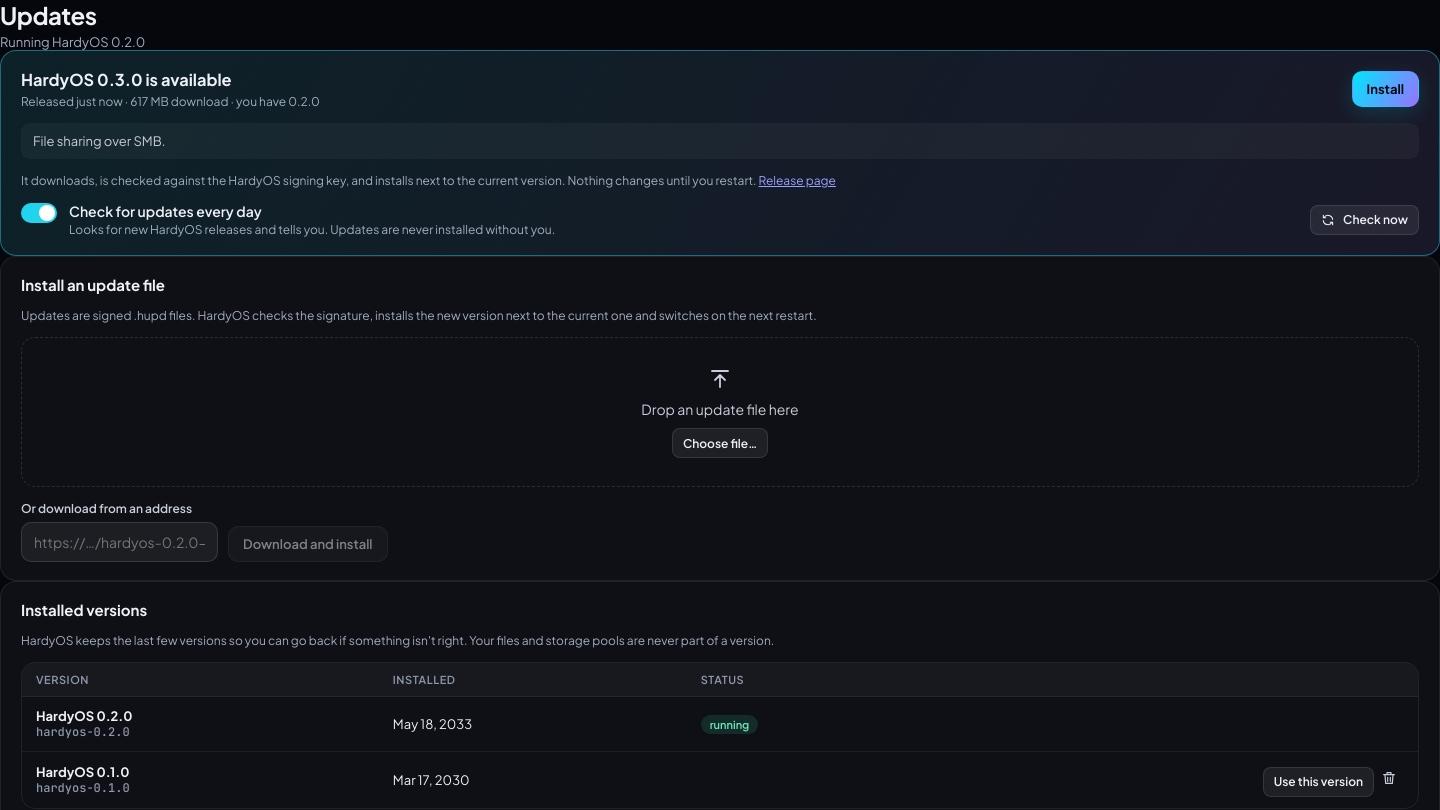
Updates › offers a version found by the automatic check and installs it
This screenshot has width=1440, height=810.
Expected: the heading "HardyOS 0.3.0 is available" is shown, 21,69 -> 232,90
Expected: the text "File sharing over SMB." is shown, 21,123 -> 1419,159
Click the button "Install" at (1385, 89), box 1352,71 -> 1419,107
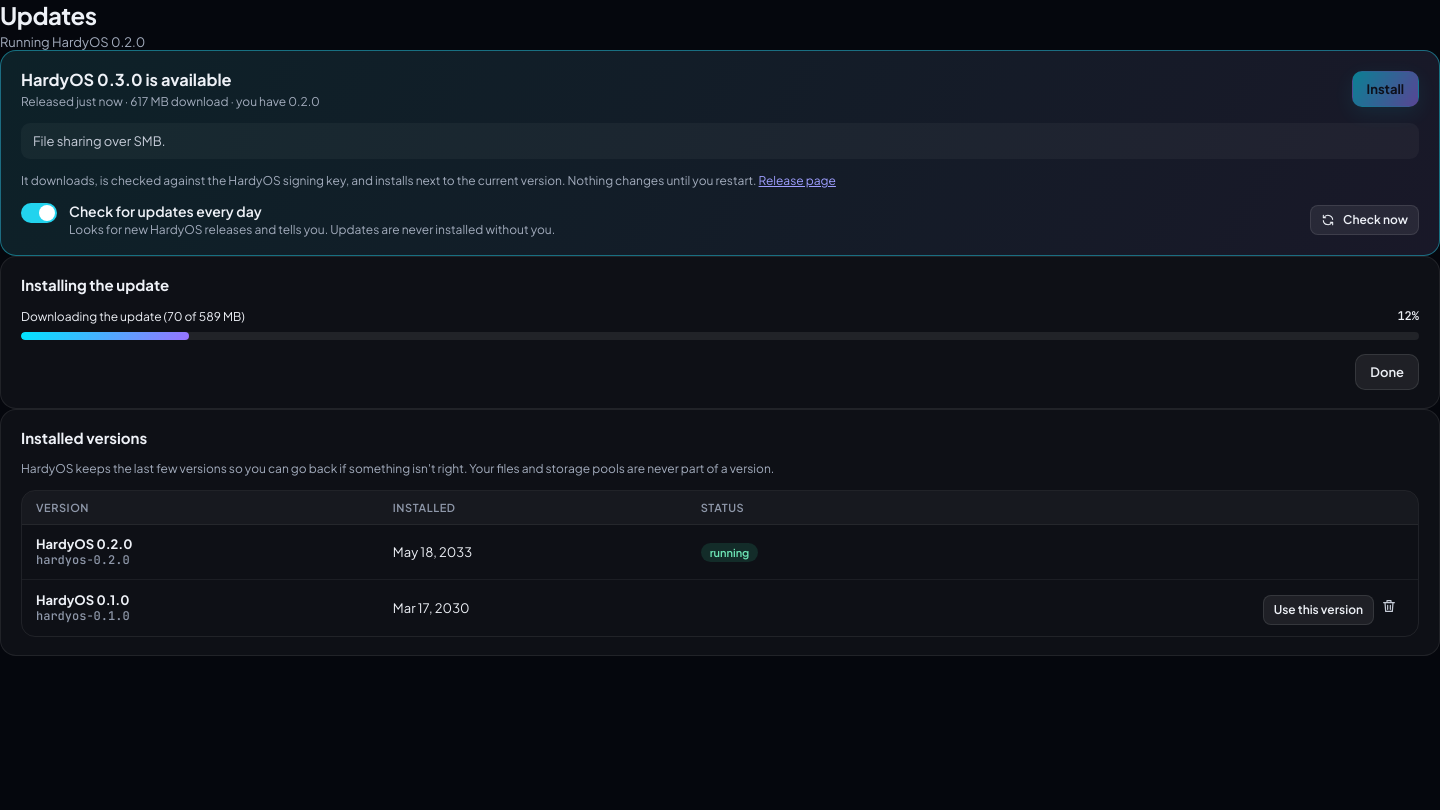
Expected: the text "Downloading the update (70 of 589 MB)" is shown, 21,308 -> 245,324
